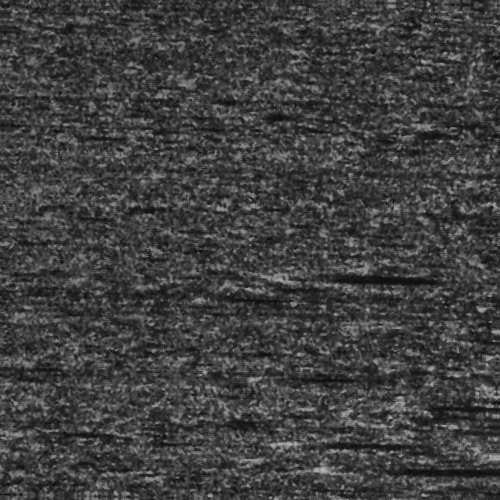object: (291, 460, 406, 469), (253, 267, 336, 278), (392, 397, 445, 408), (285, 494, 368, 500), (263, 436, 326, 443), (247, 372, 310, 377)
shadow: (349, 460, 485, 469), (295, 267, 393, 278), (419, 397, 500, 408), (295, 436, 398, 443), (327, 494, 434, 500), (279, 372, 328, 377)
